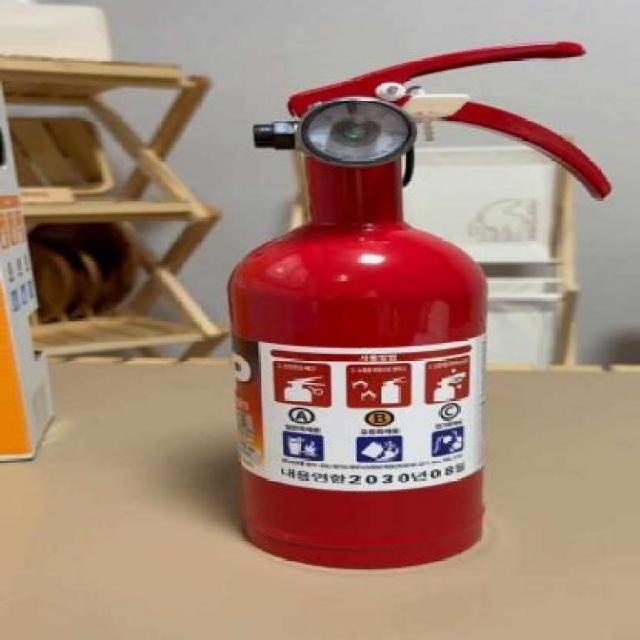fire extinguisher: (226, 41, 614, 570)
